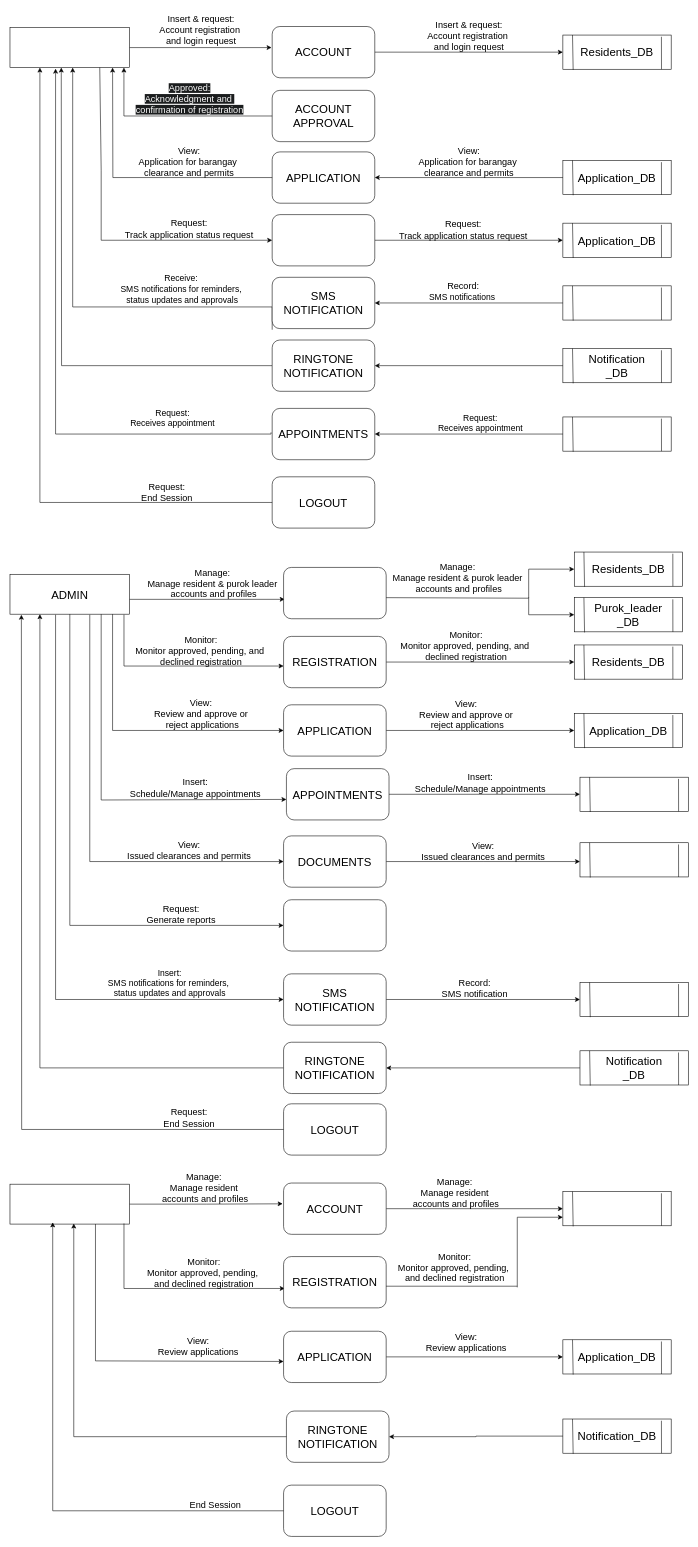
Image size: 698x1547. Some labels were removed from this diagram. Here are the shapes that lost their labels. From the top down, the centre of each, then its label:
At point (69, 47): "RESIDENT".
At point (323, 240): "TRACK APPLICATION".
At point (616, 302): "SMS _notification _DB".
At point (616, 433): "Appointments_DB".
At point (334, 593): "ACCOUNTS".
At point (633, 794): "Appointments _DB".
At point (633, 859): "Documents_DB".
At point (334, 925): "REPORTS".
At point (633, 999): "SMS_notification _DB".
At point (69, 1204): "PUROK LEADER".
At point (616, 1208): "Patient_DB".
